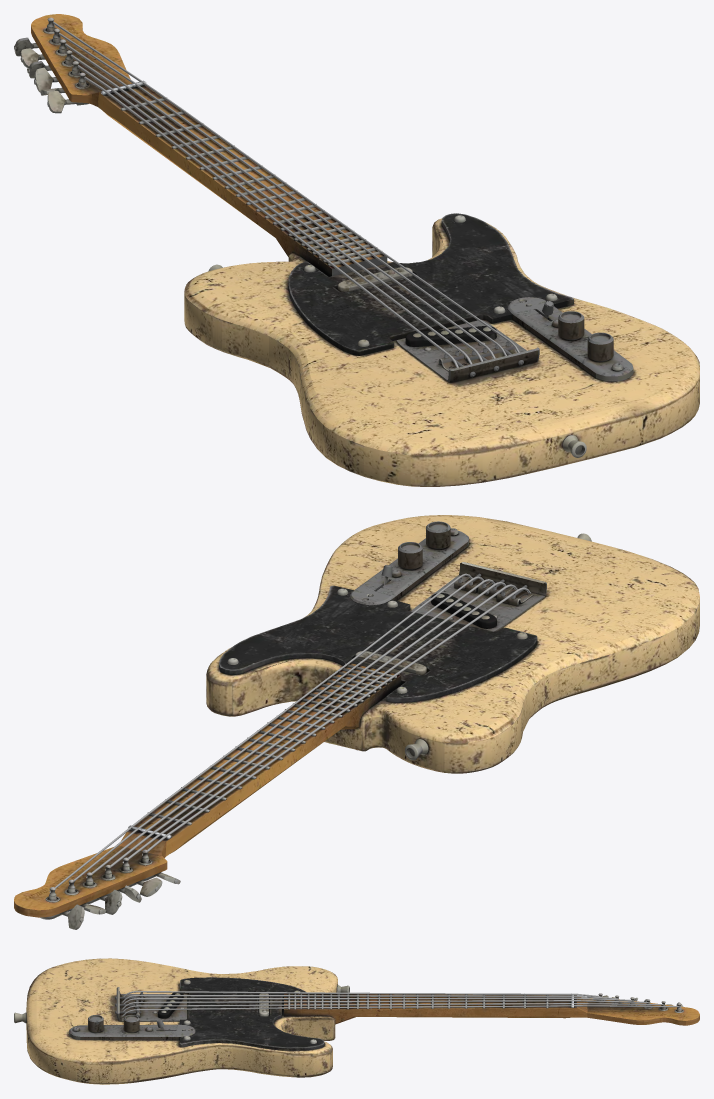
File: telecaster.glb
3 renders of one model, top to bottom at view 1: azimuth 30°, elevation 25°; view 2: azimuth 150°, elevation 25°; view 3: azimuth 270°, elevation 25°, orthographic. The views are drawn at different scales.
Parts seen in each view (by area): view 1: Object_3, Object_4, Object_63, Object_14, Object_16, Object_25, Object_54, Object_53, Object_56, Object_52, Object_55, Object_51 (+1 smaller); view 2: Object_3, Object_4, Object_63, Object_25, Object_16, Object_14, Object_53, Object_54, Object_52, Object_51, Object_56, Object_55 (+3 smaller); view 3: Object_3, Object_63, Object_4, Object_14, Object_53, Object_54, Object_56, Object_55, Object_25, Object_51, Object_52, Object_16 (+3 smaller).
Boxes of the visible parts, x1,y1,x2,y2 form: Object_3: (184, 218, 699, 486); Object_4: (288, 213, 573, 355); Object_63: (31, 14, 387, 276); Object_14: (507, 297, 633, 381); Object_16: (121, 97, 382, 265); Object_25: (396, 319, 539, 382); Object_54: (65, 43, 495, 358); Object_53: (70, 54, 482, 361); Object_56: (53, 21, 519, 352); Object_52: (77, 65, 472, 364); Object_55: (59, 33, 506, 355); Object_51: (84, 76, 458, 367); Object_3: (206, 515, 699, 773); Object_4: (219, 585, 537, 702); Object_63: (14, 663, 401, 917); Object_25: (411, 562, 546, 631); Object_16: (147, 663, 396, 824); Object_14: (350, 530, 468, 605); Object_53: (105, 582, 505, 870); Object_54: (86, 579, 494, 877); Object_52: (122, 584, 517, 863); Object_51: (142, 587, 531, 855); Object_56: (49, 573, 472, 892); Object_55: (69, 576, 483, 884); Object_3: (26, 958, 337, 1084); Object_63: (284, 993, 699, 1025); Object_4: (179, 977, 324, 1050); Object_14: (69, 1024, 195, 1040); Object_53: (123, 997, 633, 1003); Object_54: (121, 1000, 649, 1009); Object_56: (122, 1005, 680, 1016); Object_55: (123, 1003, 663, 1011); Object_25: (116, 987, 186, 1021); Object_51: (123, 991, 601, 996); Object_52: (121, 995, 617, 1002); Object_16: (288, 993, 548, 1009).
Size of the model in its own units: 5.02 by 0.9829 by 13.8.
Materials: 8 (3 with a texture image).
